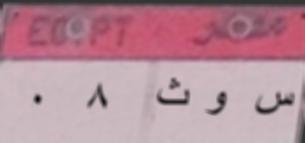0: (25, 91, 50, 108)
8: (81, 81, 117, 109)
seen: (255, 87, 298, 118)
thaa: (155, 76, 193, 111)
waw: (204, 89, 229, 120)
